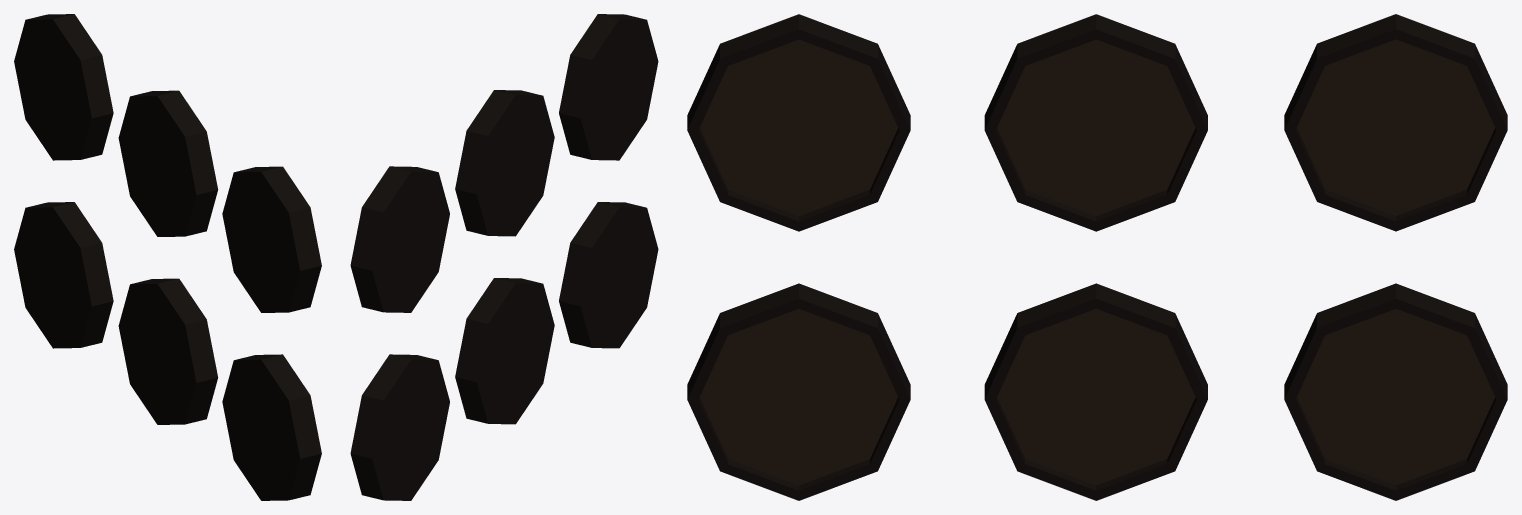
File: Animal Door Signs.fbx
The picture shows the model from 3 angles, left to right: view 1: azimuth 30°, elevation 25°; view 2: azimuth 150°, elevation 25°; view 3: azimuth 270°, elevation 25°; orthographic projection. The views are drawn at different scales.
Parts seen in each view (by area): view 1: polySurface73, pasted__polySurface72, polySurface72, polySurface75, polySurface76, polySurface74; view 2: polySurface72, polySurface73, pasted__polySurface72, polySurface74, polySurface75, polySurface76; view 3: polySurface72, polySurface75, pasted__polySurface72, polySurface73, polySurface76, polySurface74.
Boxes of the visible parts, x1,y1,x2,y2 form: polySurface73: (222,166,321,312); pasted__polySurface72: (14,202,113,348); polySurface72: (14,14,113,160); polySurface75: (222,354,321,500); polySurface76: (118,278,218,424); polySurface74: (118,90,218,236); polySurface72: (350,166,449,312); polySurface73: (559,14,658,160); pasted__polySurface72: (350,354,449,500); polySurface74: (455,90,554,236); polySurface75: (559,202,658,348); polySurface76: (455,278,554,424); polySurface72: (1284,14,1507,231); polySurface75: (687,283,910,500); pasted__polySurface72: (1284,283,1507,500); polySurface73: (687,14,910,231); polySurface76: (984,283,1207,500); polySurface74: (984,14,1207,231).
Bounding box in the file's own units: 0.161 × 2.33 × 3.67.
